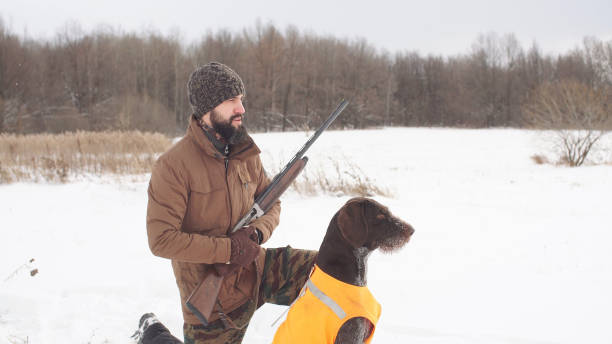gun: (184, 99, 351, 327)
